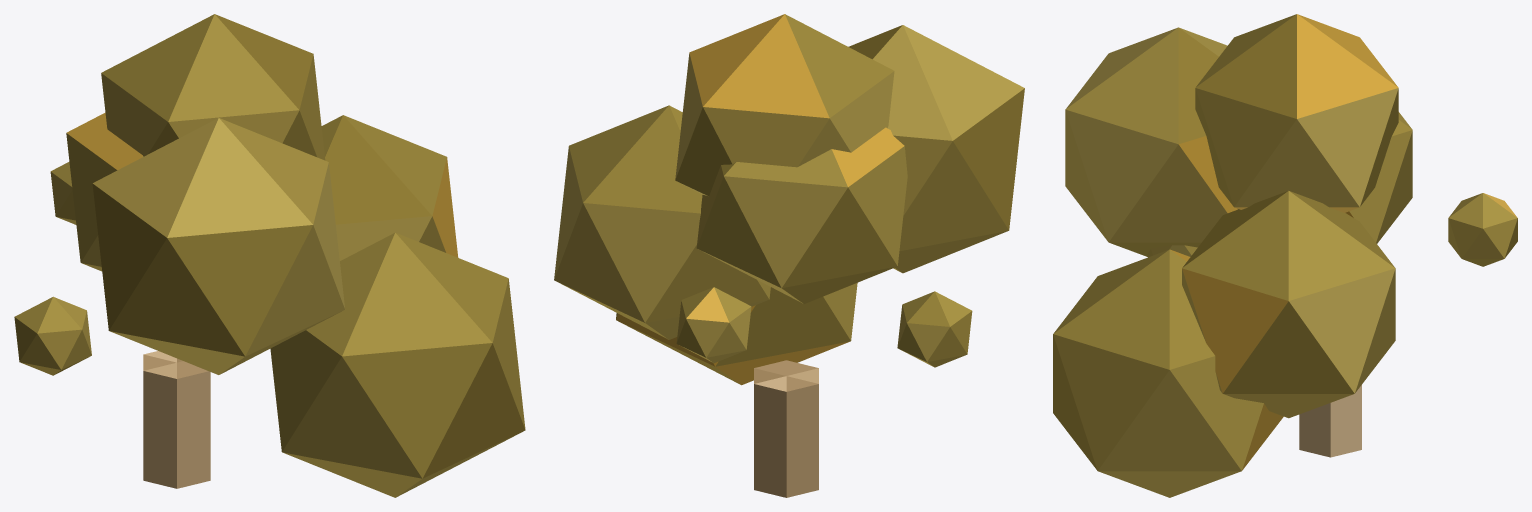
The model's file is Plant_Berry_d.fbx.
3 views of the same model, side by side, from view 1: azimuth 30°, elevation 25°; view 2: azimuth 150°, elevation 25°; view 3: azimuth 270°, elevation 25° (orthographic). The views are drawn at different scales.
Parts seen in each view (by area): view 1: Plant_Berry_d; view 2: Plant_Berry_d; view 3: Plant_Berry_d.
Part boxes in pixels (bbox=[...]): Plant_Berry_d: bbox=[14, 14, 525, 497]; Plant_Berry_d: bbox=[554, 14, 1024, 497]; Plant_Berry_d: bbox=[1053, 14, 1517, 497].
Size of what is drawn, in the model's own units: 0.5004 by 0.5312 by 0.5117.
